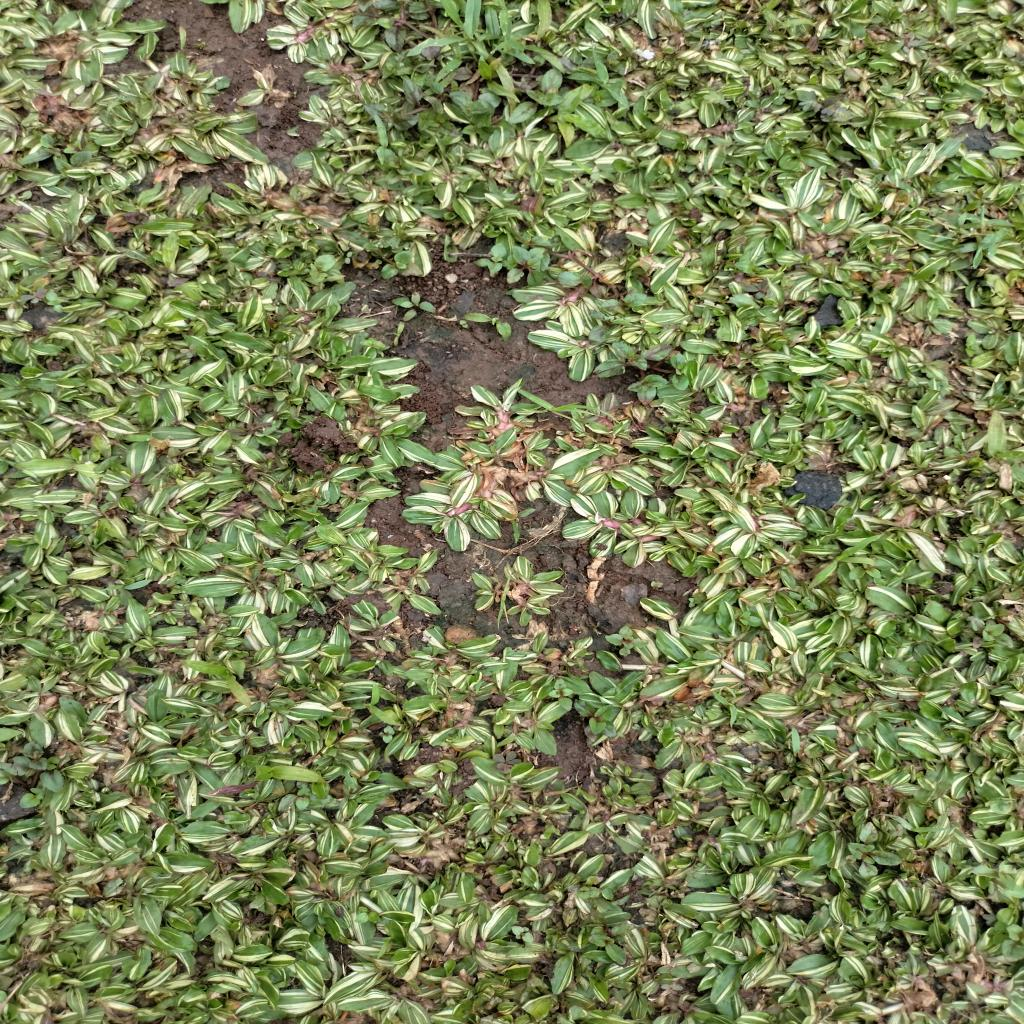bayi: (378, 724, 396, 744), (459, 318, 469, 329)
buah daun: (794, 88, 854, 120), (891, 30, 929, 54)
rambat atas: (444, 0, 535, 80), (941, 204, 1017, 272), (568, 53, 634, 106), (519, 389, 616, 421), (367, 682, 405, 728), (821, 546, 870, 577), (370, 112, 393, 164), (710, 690, 742, 727), (792, 726, 803, 758)
rambat bawah: (175, 657, 255, 712), (462, 309, 512, 343), (254, 763, 330, 785)
ungu tunggang: (506, 66, 568, 124), (355, 2, 438, 43), (594, 342, 676, 380), (6, 741, 65, 793), (589, 292, 647, 344), (480, 242, 546, 286), (844, 841, 906, 881), (588, 922, 640, 966), (572, 696, 622, 741), (365, 240, 413, 280), (605, 624, 650, 656), (545, 675, 575, 712), (730, 609, 762, 631)
